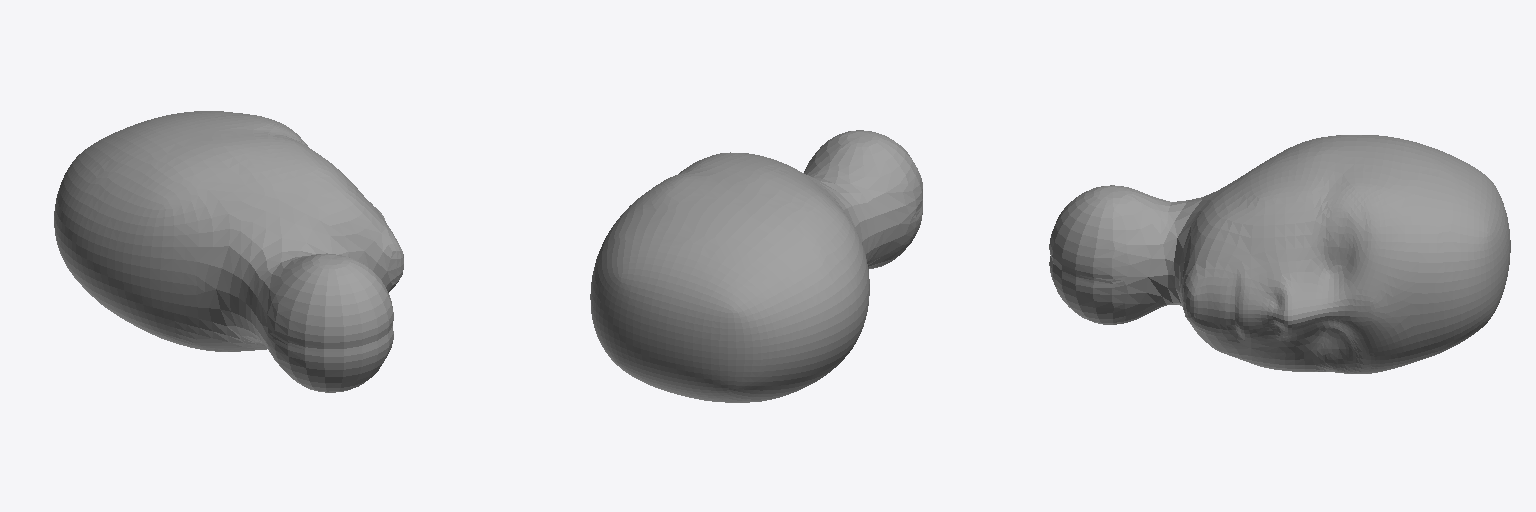
File: head5.obj
The picture shows the model from 3 angles: view 1: azimuth 30°, elevation 25°; view 2: azimuth 150°, elevation 25°; view 3: azimuth 270°, elevation 25°; orthographic projection.
Visible parts, largest first — view 1: Mesh; view 2: Mesh; view 3: Mesh.
Part boxes in pixels (x1,y1,x2,y2): Mesh: (54, 111, 403, 392); Mesh: (590, 130, 922, 402); Mesh: (1049, 135, 1510, 373).
Bounding box in the file's own units: 17.73 × 12.59 × 26.61.